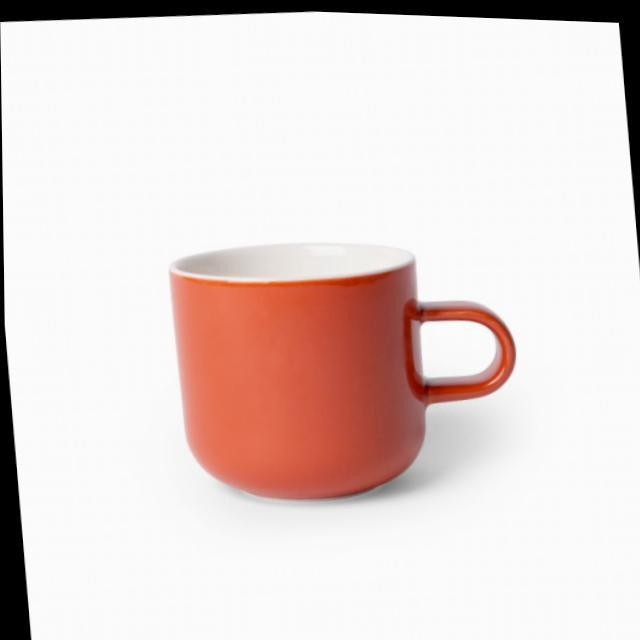cup: (132, 212, 536, 564)
